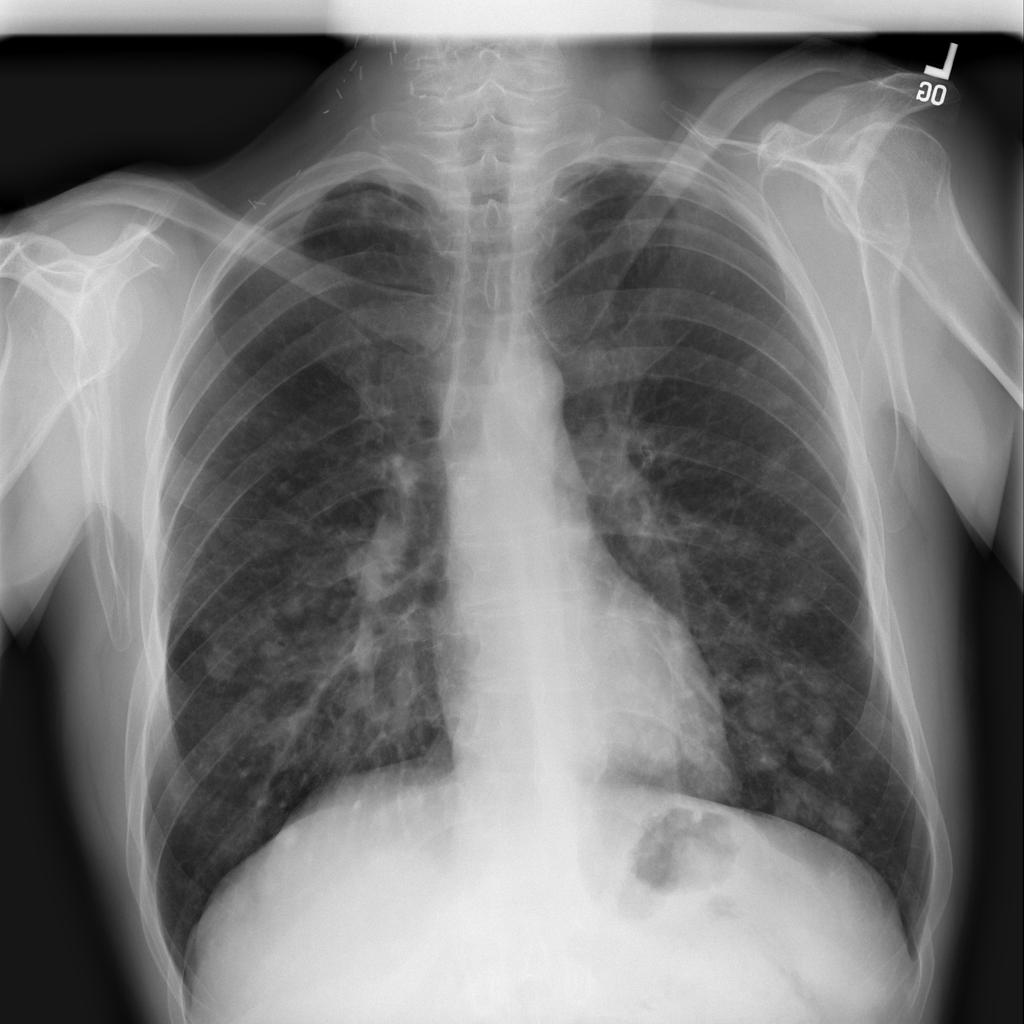nodule: (728, 665, 792, 745), (190, 628, 256, 701), (748, 434, 801, 486), (768, 582, 826, 629), (783, 514, 837, 564), (723, 335, 772, 386), (254, 622, 303, 672), (756, 375, 807, 422)
